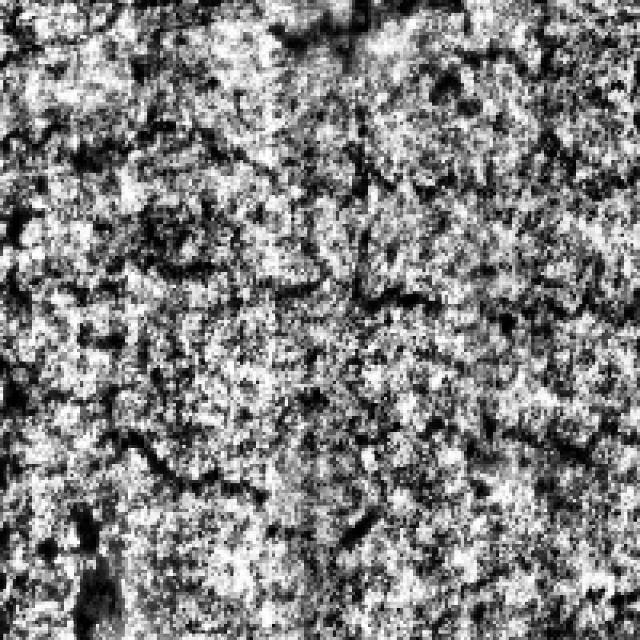Pitted_Surface: (0, 118, 474, 326), (474, 19, 634, 461), (0, 266, 243, 497)
